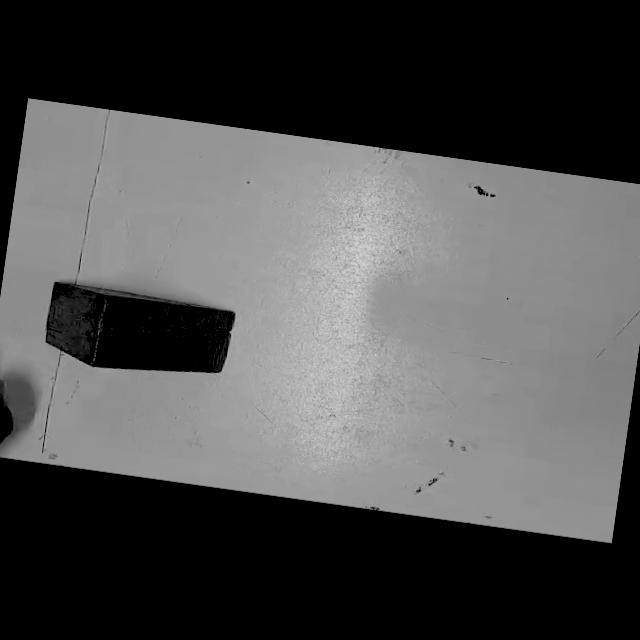rtriangle: (45, 282, 235, 373)
